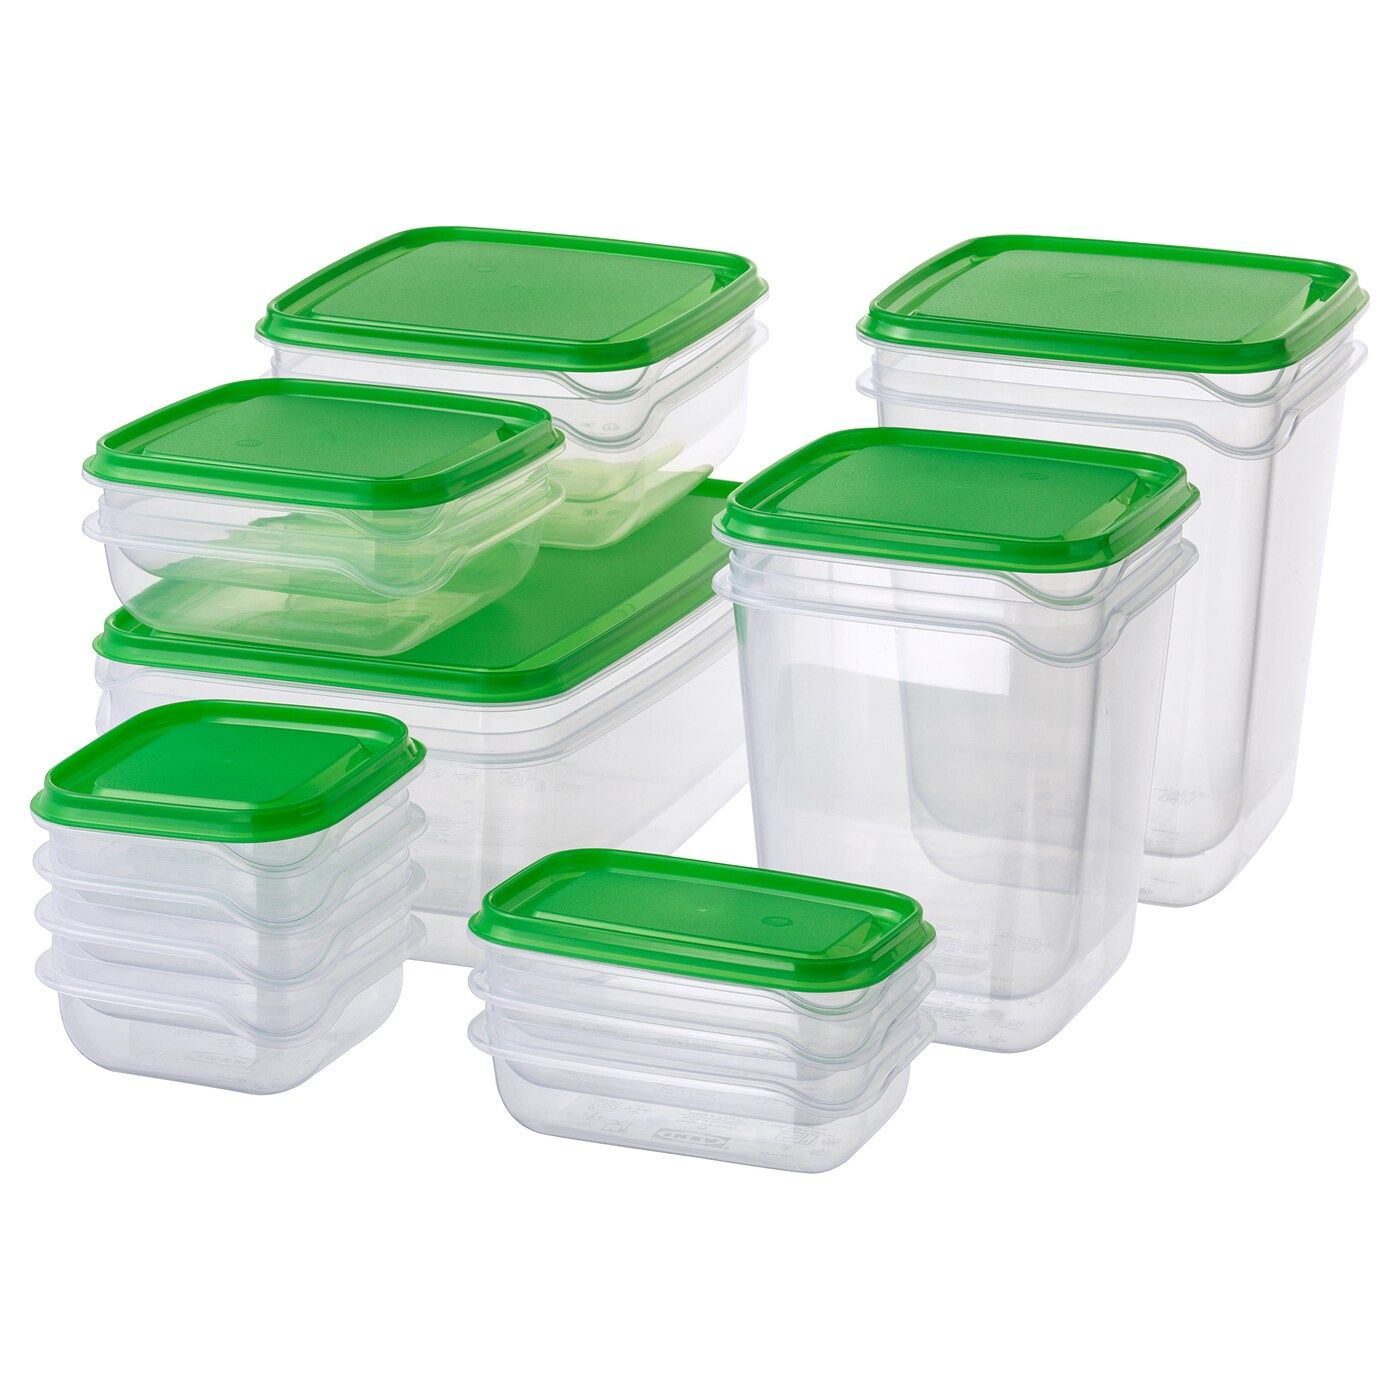PlasticBox: (451, 832, 946, 1185)
